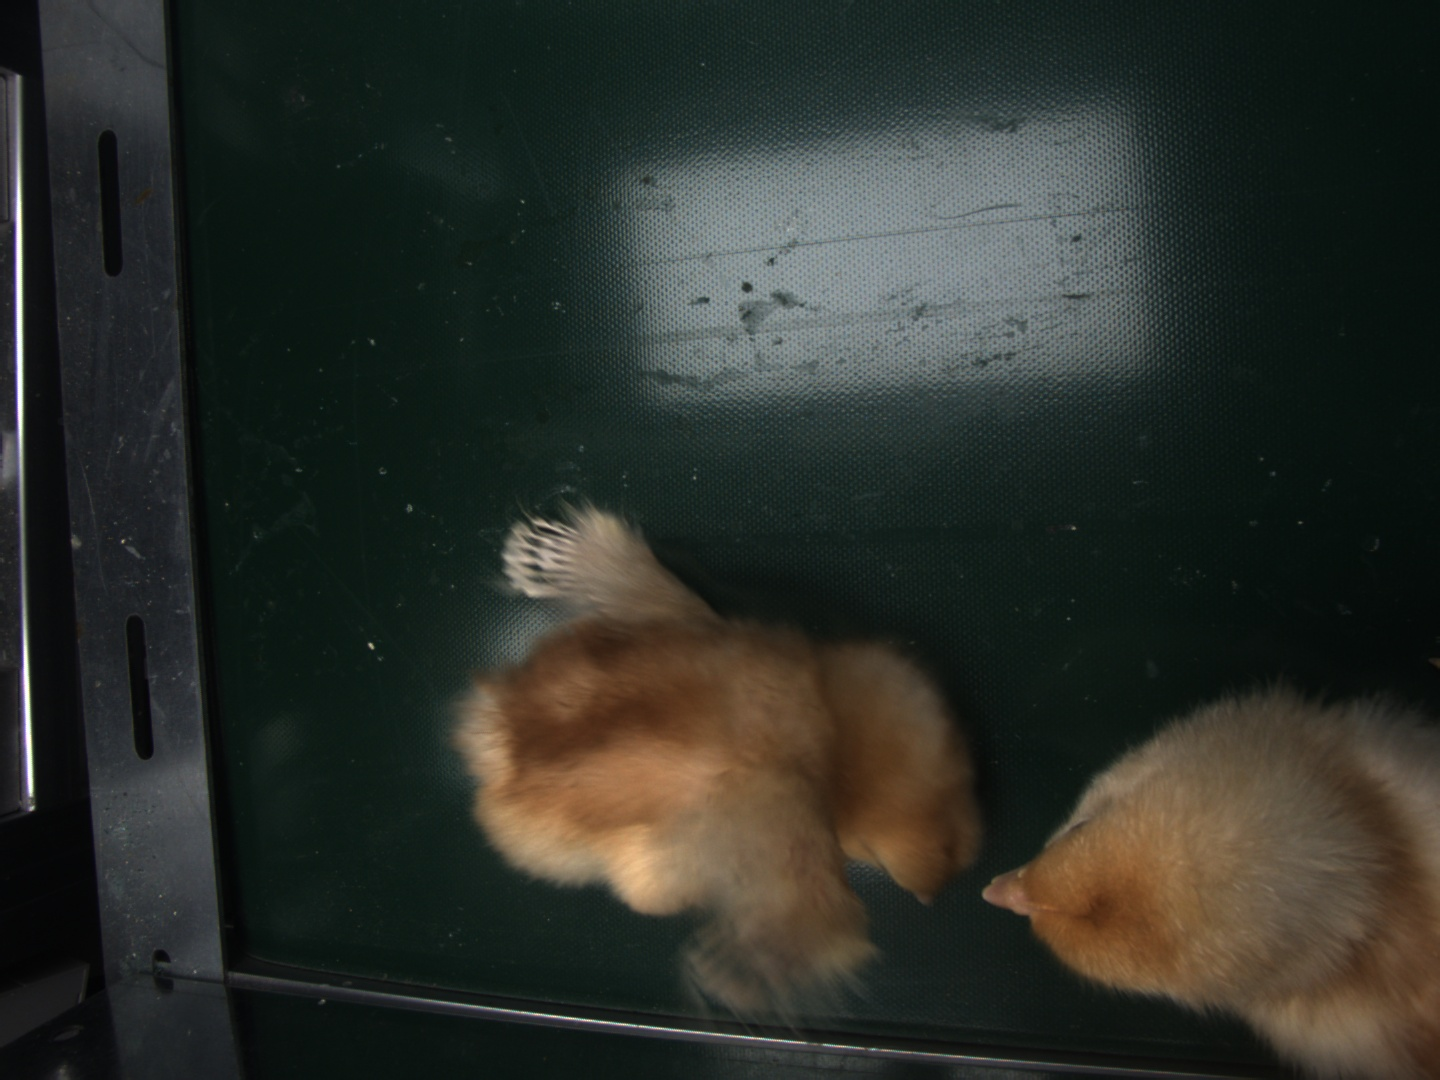female: (503, 513, 587, 598)
